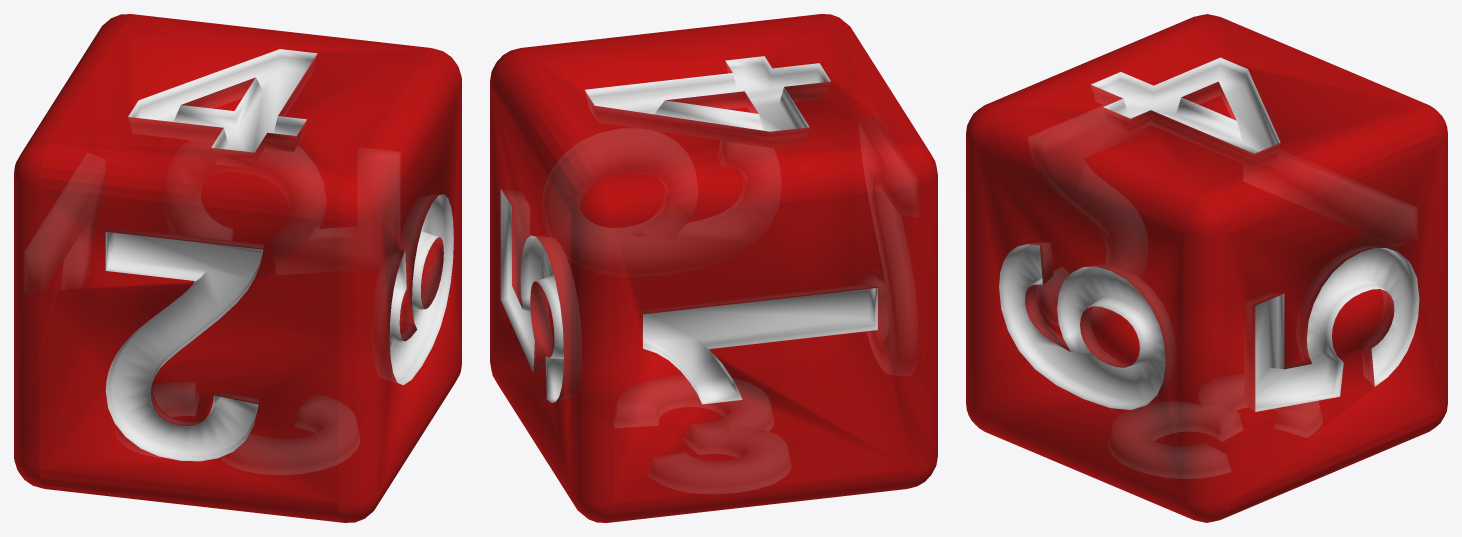
The model's file is d6_numbers_square.fbx.
The picture shows the model from 3 angles, left to right: view 1: azimuth 30°, elevation 25°; view 2: azimuth 150°, elevation 25°; view 3: azimuth 270°, elevation 25°; orthographic projection. The views are drawn at different scales.
Parts seen in each view (by area): view 1: 6_Sided_Nu; view 2: 6_Sided_Nu; view 3: 6_Sided_Nu.
Boxes of the visible parts, <box> form: 6_Sided_Nu: <box>14,14,461,522</box>; 6_Sided_Nu: <box>490,14,937,522</box>; 6_Sided_Nu: <box>966,14,1447,522</box>.
Size of the model in its own units: 11.15 by 8.34 by 11.15.
